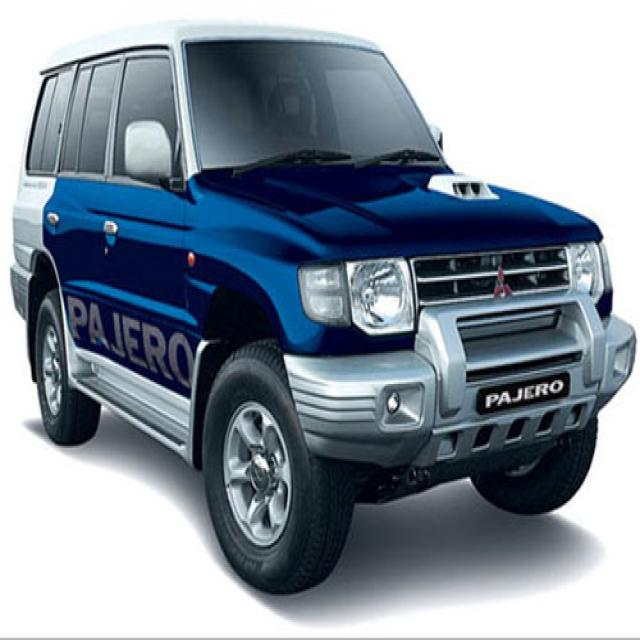light_vehicle: (10, 19, 636, 595)
